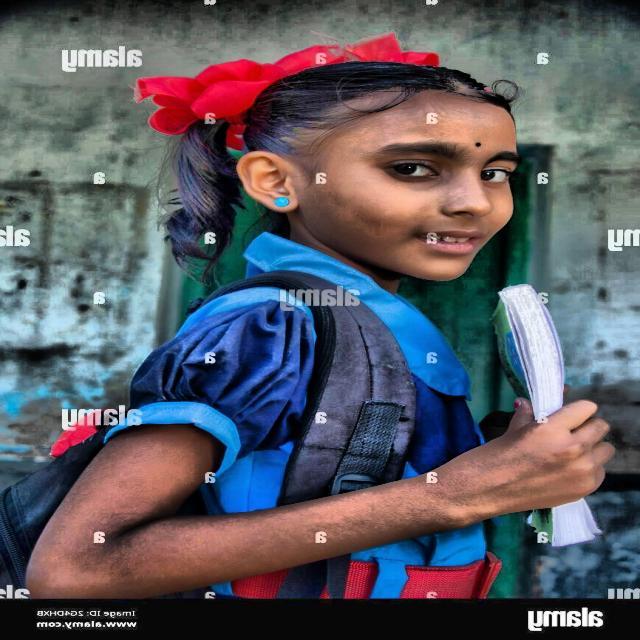Human: (49, 37, 632, 640)
